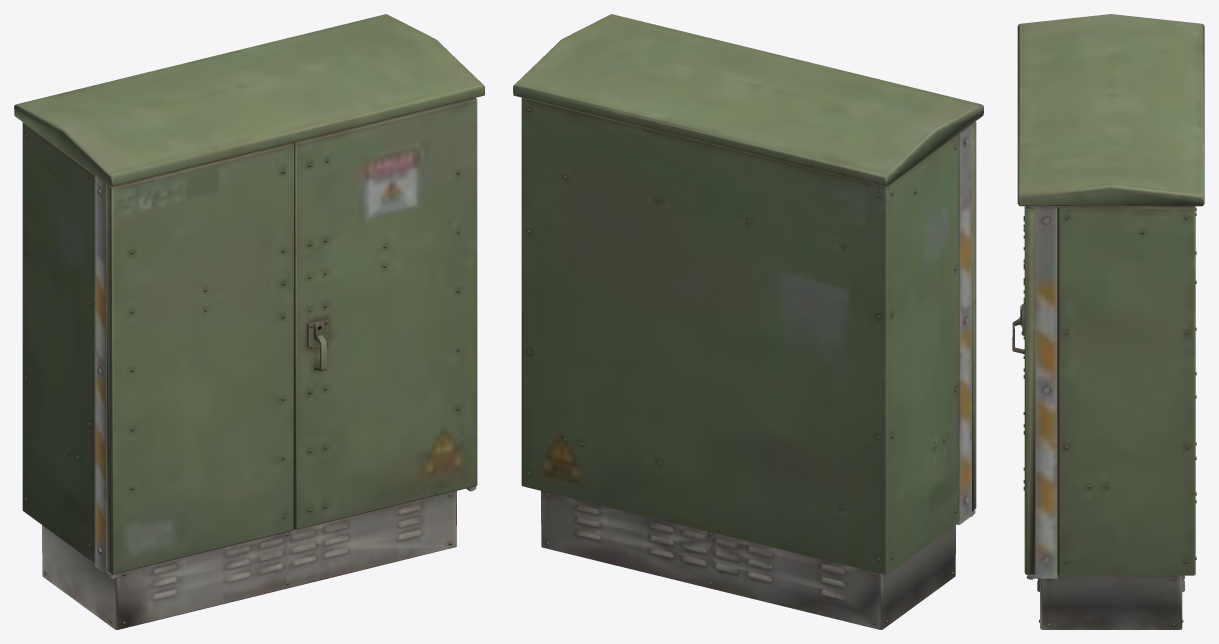
The model's file is utility_box_02_lod1.glb.
The picture shows the model from 3 angles, left to right: view 1: azimuth 30°, elevation 25°; view 2: azimuth 150°, elevation 25°; view 3: azimuth 270°, elevation 25°; orthographic projection. The views are drawn at different scales.
Visible parts, largest first — view 1: utility_box_02; view 2: utility_box_02; view 3: utility_box_02.
Part boxes in pixels (x1,y1,x2,y2): utility_box_02: (14,14,484,629); utility_box_02: (513,14,983,629); utility_box_02: (1012,14,1204,629).
Size of the model in its own units: 0.92 by 1.12 by 0.4319.
Materials: 1 (1 with a texture image).
